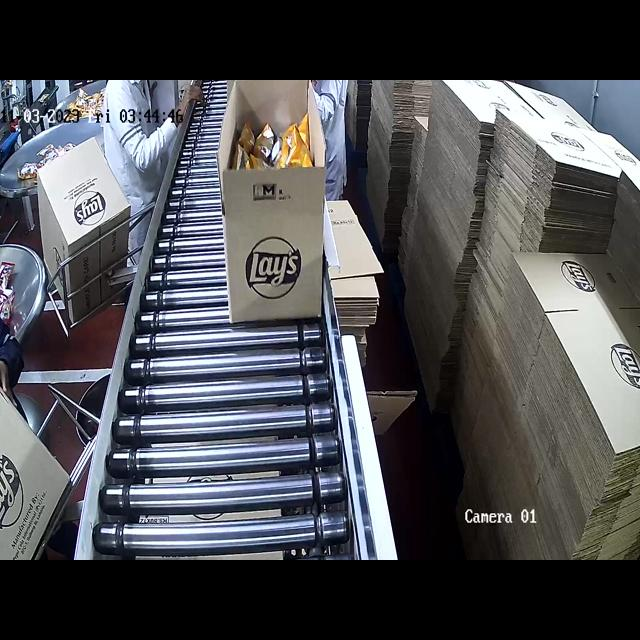cheese: (233, 114, 316, 171)
